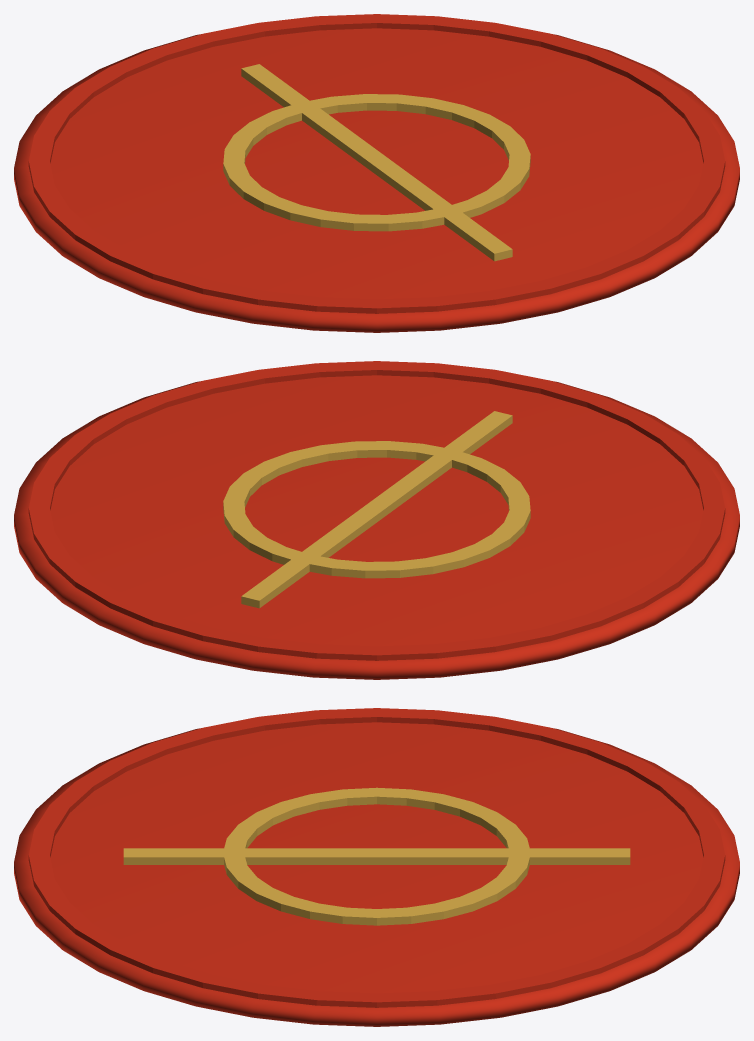
The model's file is seal_mark.glb.
3 views of the same model, one above another, from view 1: azimuth 30°, elevation 25°; view 2: azimuth 150°, elevation 25°; view 3: azimuth 270°, elevation 25° (orthographic).
Parts seen in each view (by area): view 1: SealMark; view 2: SealMark; view 3: SealMark.
Boxes of the visible parts, x1=… form: SealMark: x1=14, y1=14, x2=739, y2=332; SealMark: x1=14, y1=361, x2=739, y2=679; SealMark: x1=14, y1=708, x2=739, y2=1026.
Size of the model in its own units: 1.72 by 0.054 by 1.72.
